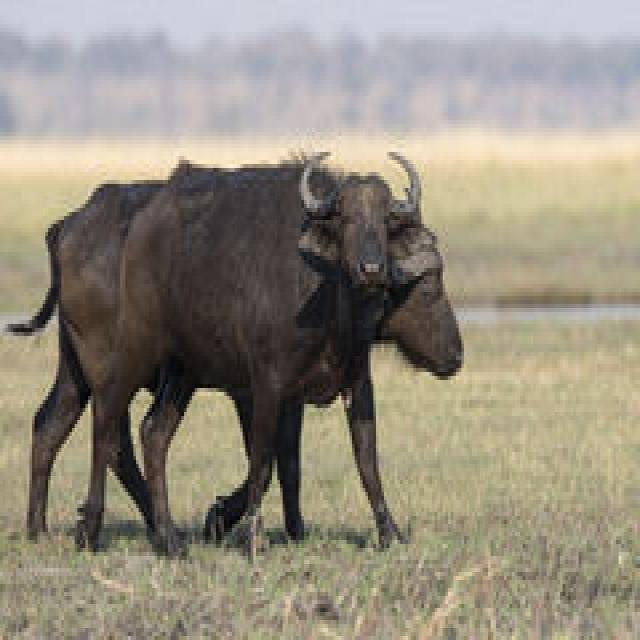buffalo: (3, 152, 474, 572)
